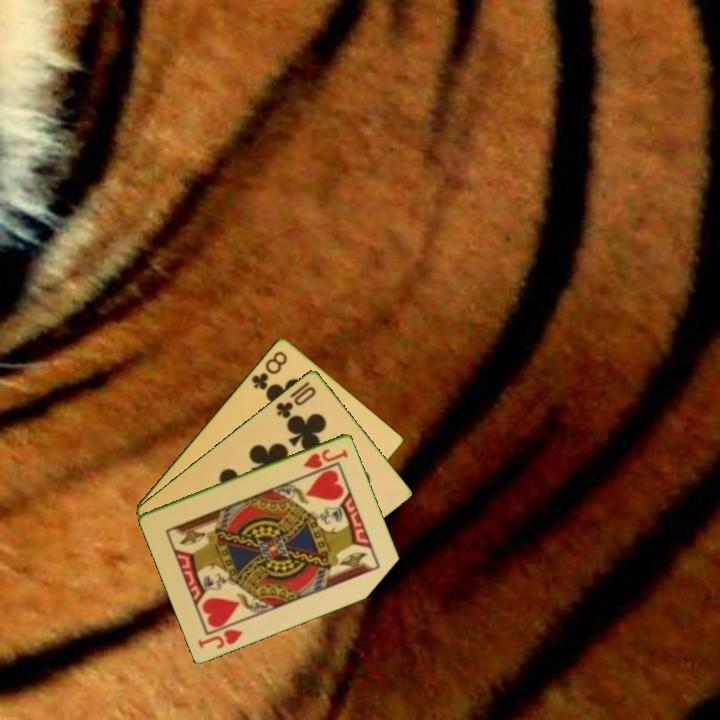10c: (272, 382, 319, 421)
8c: (248, 347, 290, 393)
Jh: (299, 445, 351, 471), (194, 625, 246, 651)
